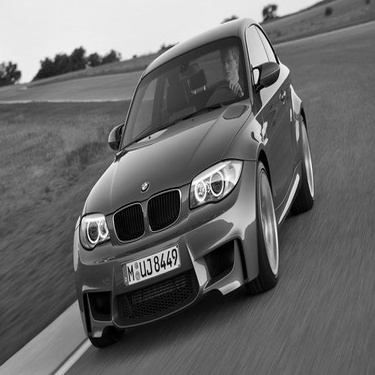car: (60, 10, 317, 352)
